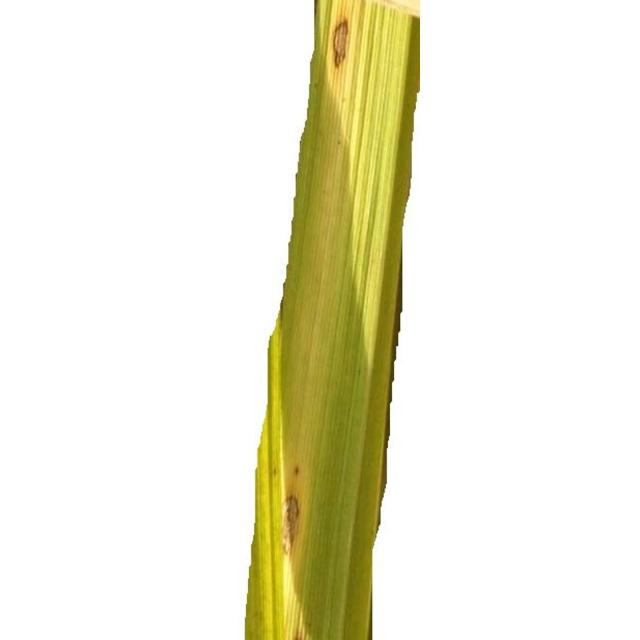healthy: (230, 0, 440, 640)
